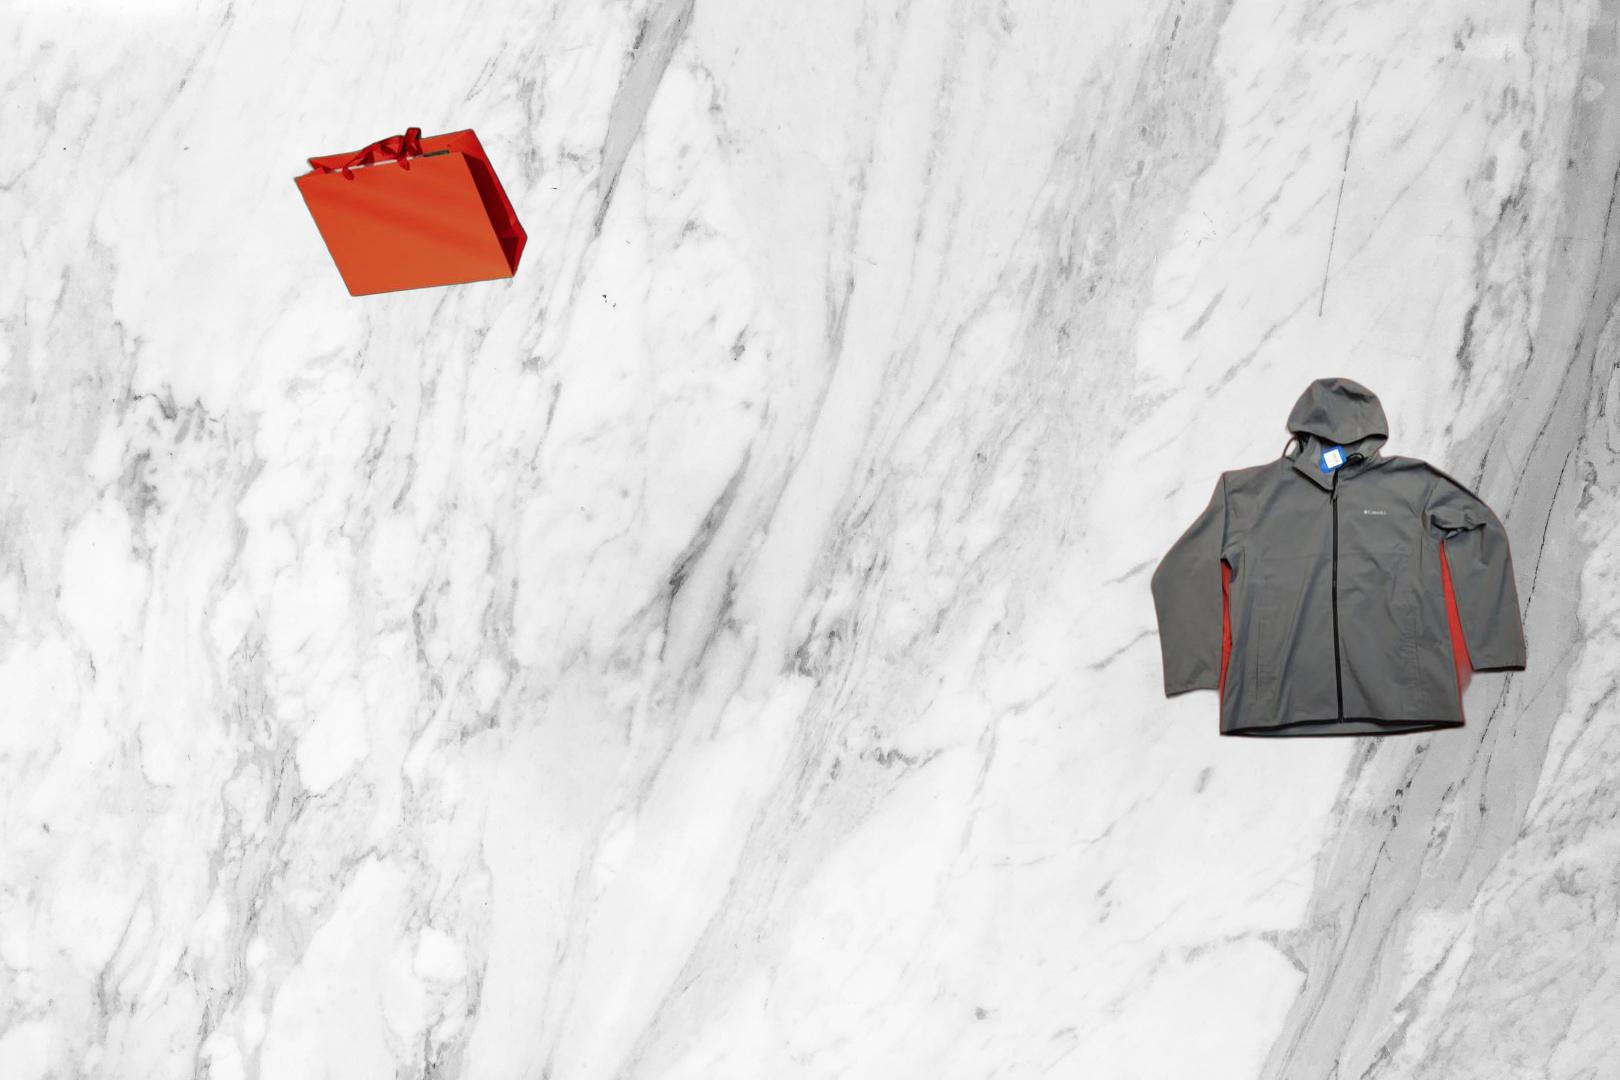clothes: (1141, 309, 1530, 742)
paper-bag: (290, 125, 530, 299)
